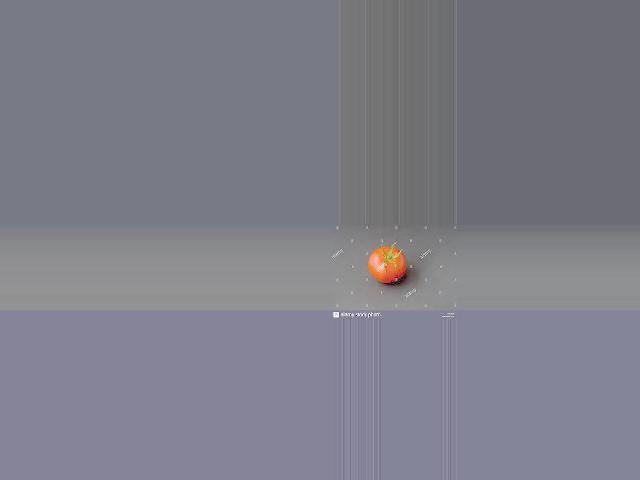tomato: (368, 246, 407, 281)
